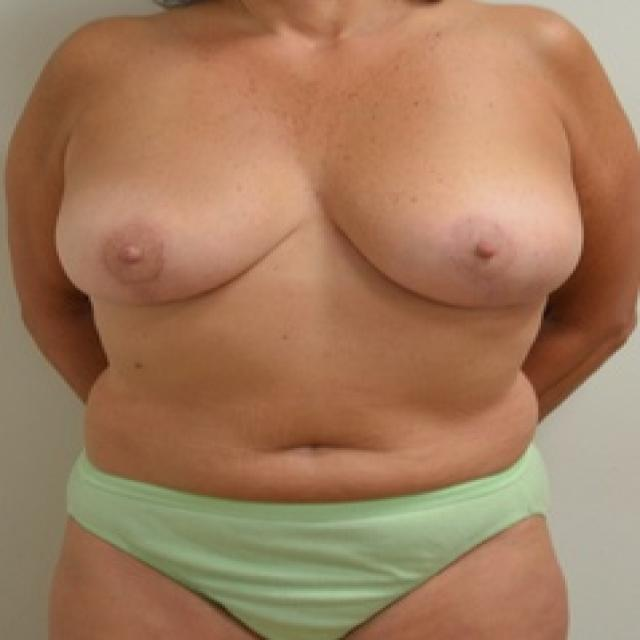Seno ileso: (316, 114, 596, 324), (44, 114, 309, 324)
